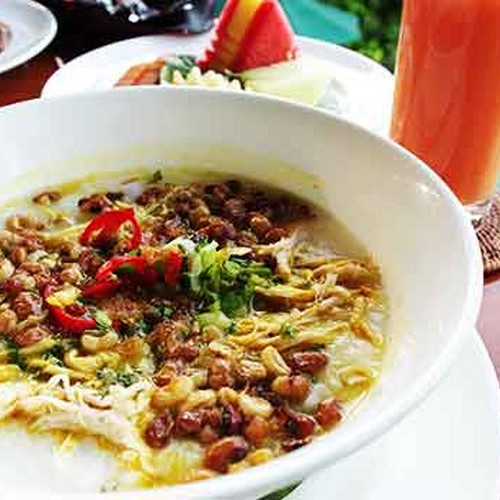bubur mengguh: (28, 129, 358, 461)
